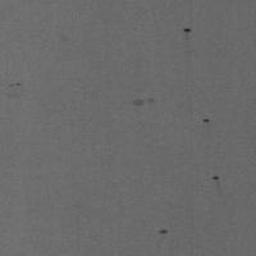Inclusion: (131, 96, 157, 108), (211, 174, 221, 188), (157, 228, 170, 236), (6, 82, 23, 88), (182, 27, 193, 33), (202, 118, 212, 124)
